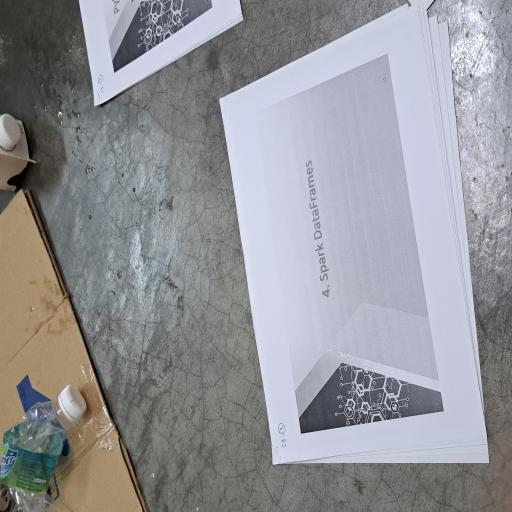cardboard: (0, 0, 244, 199)
drink carton: (240, 0, 298, 49)
paper: (32, 291, 383, 512), (306, 98, 384, 326)
plastic bottle: (0, 0, 83, 95)
plastic bottle cap: (70, 80, 96, 115), (271, 0, 299, 27)
